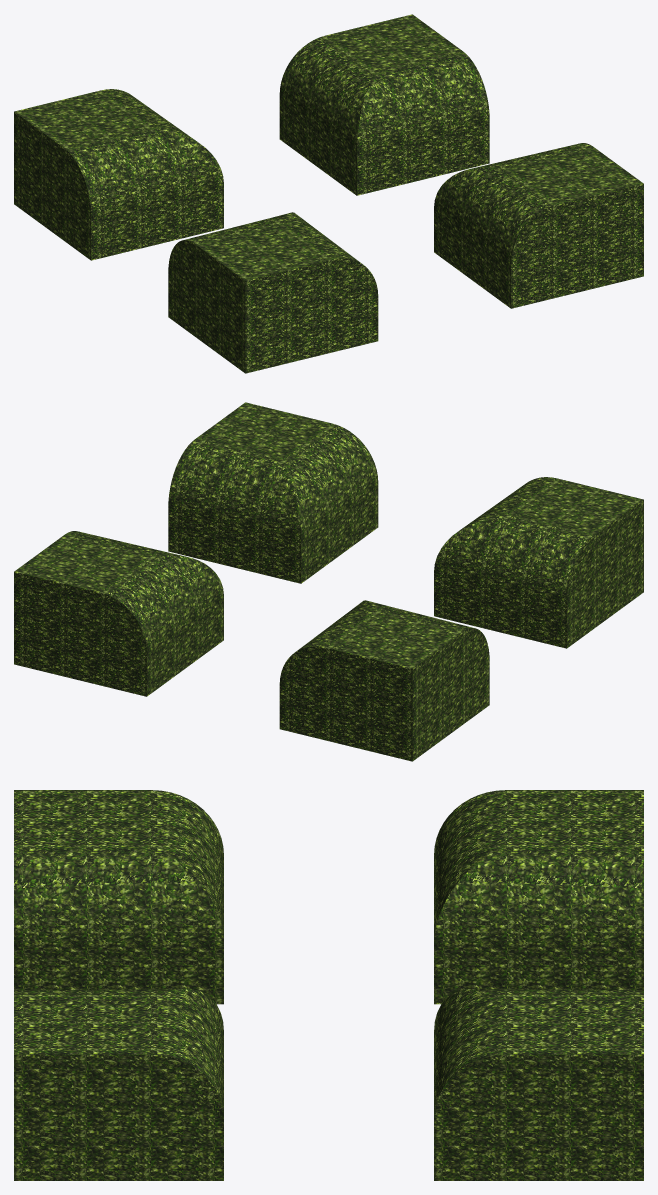
Rendered from Intersection_piece.fbx.
The picture shows the model from 3 angles, top to bottom: view 1: azimuth 30°, elevation 25°; view 2: azimuth 150°, elevation 25°; view 3: azimuth 270°, elevation 25°; orthographic projection. The views are drawn at different scales.
Parts seen in each view (by area): view 1: pCube14; view 2: pCube14; view 3: pCube14.
Boxes of the visible parts, bbox=[...] form: pCube14: bbox=[14, 14, 643, 373]; pCube14: bbox=[14, 402, 643, 761]; pCube14: bbox=[14, 790, 643, 1180].
Size of the model in its own units: 9 by 2 by 9.05.
